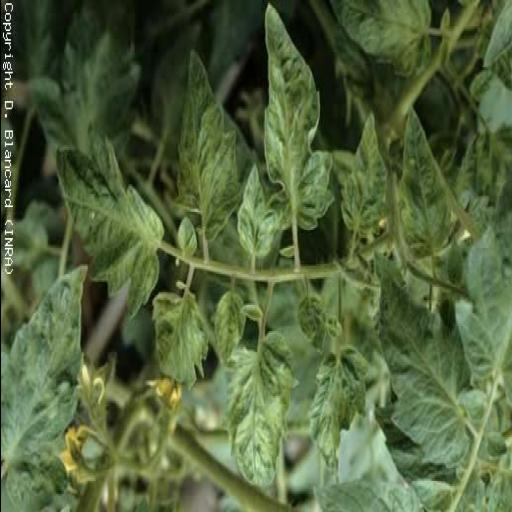Mosaic Virus: (56, 146, 166, 322), (221, 344, 301, 496), (264, 0, 323, 192), (304, 359, 364, 482), (338, 112, 392, 238), (236, 168, 286, 264)
